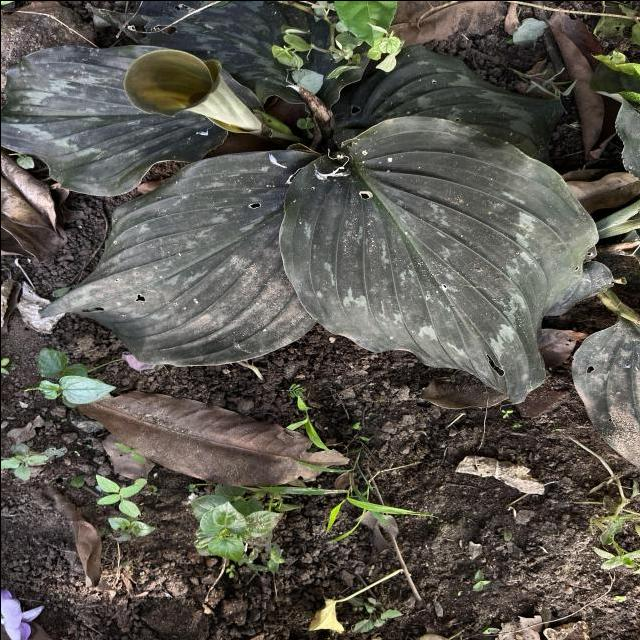Kaempferia galanga linn: (276, 112, 599, 408), (34, 147, 318, 370), (0, 44, 232, 199)
